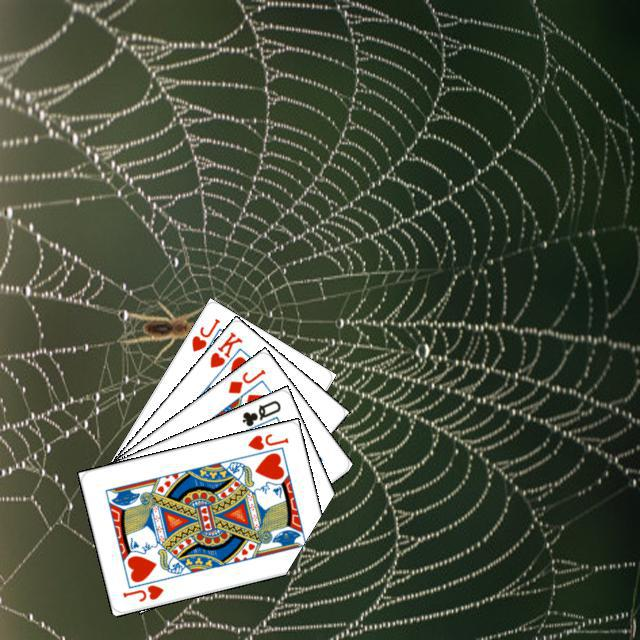Jd: (223, 364, 267, 396)
Jh: (186, 313, 222, 353), (243, 428, 290, 452), (118, 580, 165, 603)
Kh: (205, 327, 245, 379)
Qc: (237, 395, 283, 435)
